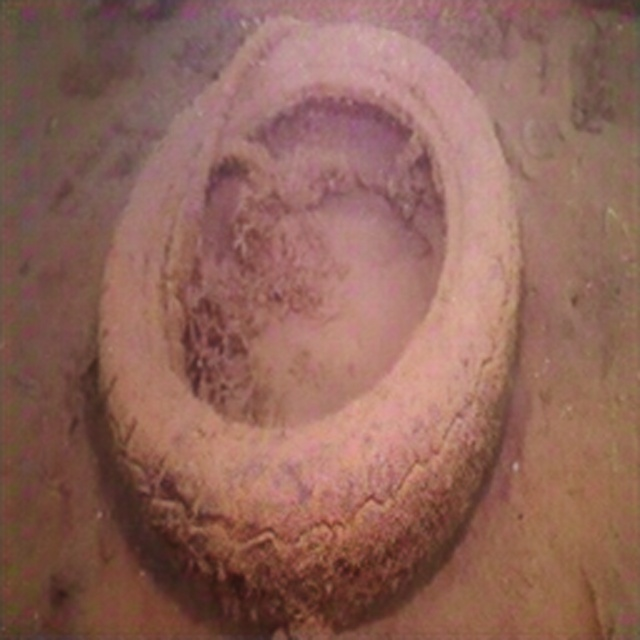mine: (95, 18, 521, 631)
